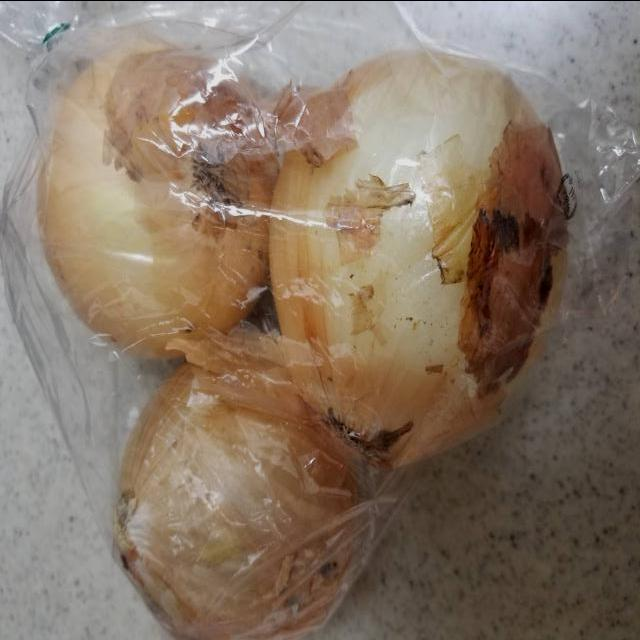onion: (267, 40, 563, 468), (33, 41, 277, 353), (108, 356, 362, 640)
